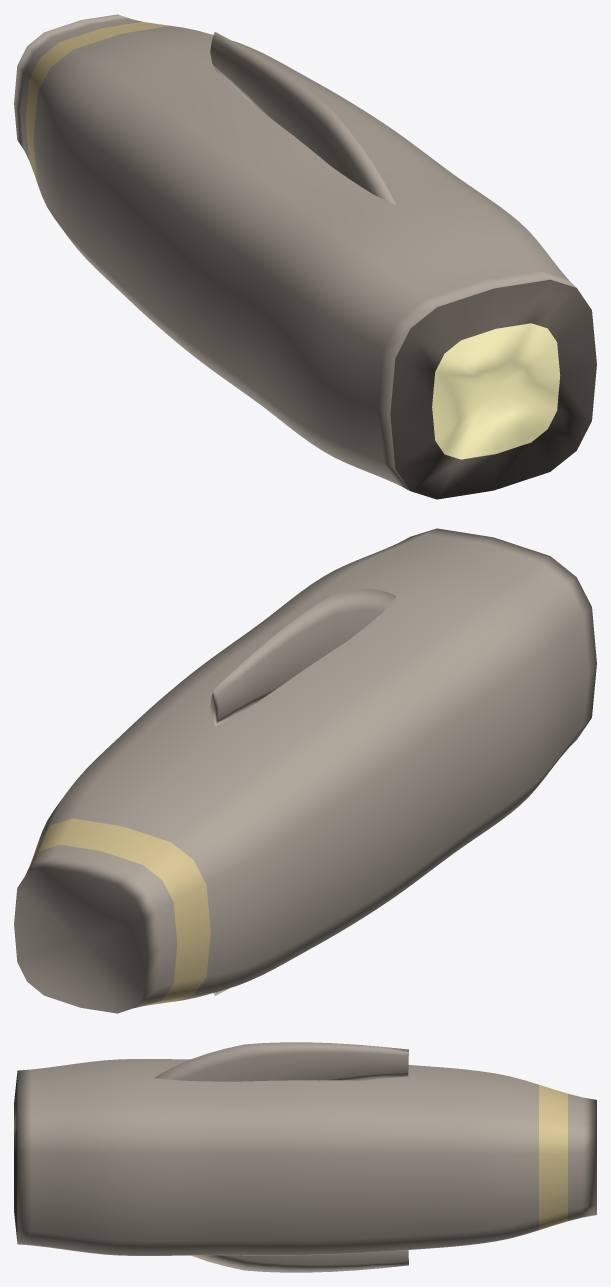
File: tarsine_dd.glb
3 renders of one model, top to bottom at view 1: azimuth 30°, elevation 25°; view 2: azimuth 150°, elevation 25°; view 3: azimuth 270°, elevation 25°, orthographic. The views are drawn at different scales.
Visible parts, largest first — view 1: hull_mesh, limb_0_mesh; view 2: hull_mesh, limb_0_mesh; view 3: hull_mesh, limb_0_mesh, limb_1_mesh.
Boxes of the visible parts, box(x1,y1,x2,y2) form: hull_mesh: box(14, 14, 596, 499); limb_0_mesh: box(210, 32, 395, 204); hull_mesh: box(14, 528, 596, 1013); limb_0_mesh: box(210, 589, 396, 726); hull_mesh: box(14, 1059, 596, 1255); limb_0_mesh: box(154, 1042, 408, 1081); limb_1_mesh: box(191, 1250, 408, 1272).
Size of the model in its own units: 37.81 by 48.25 by 111.
